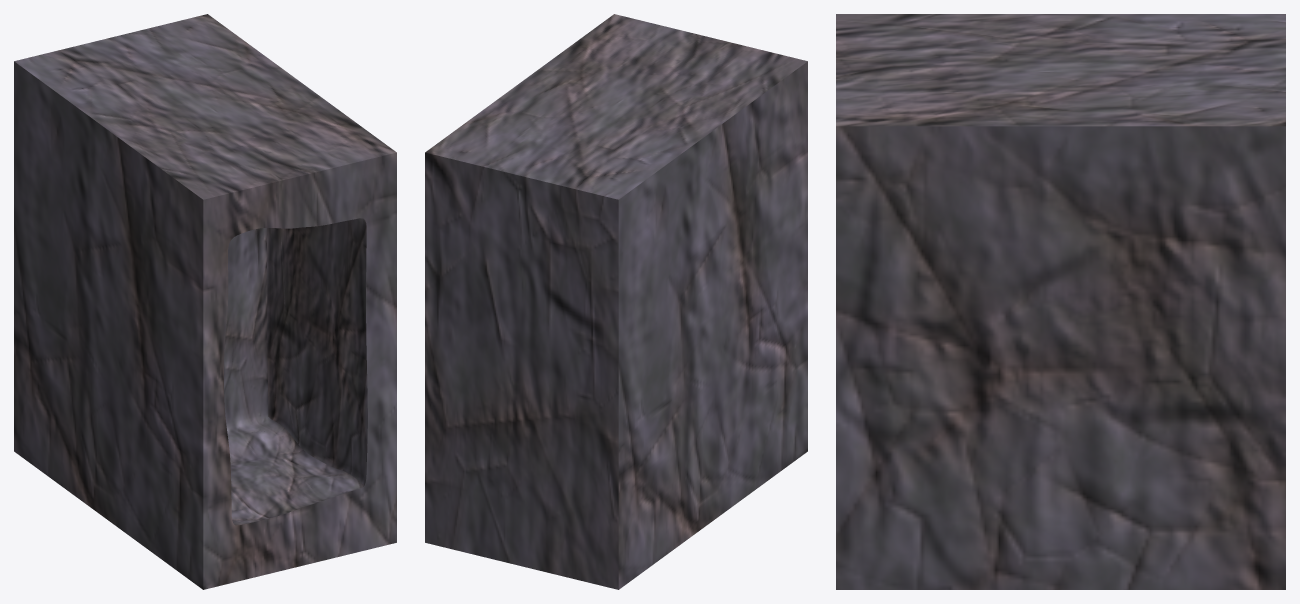
The model's file is CaveBox.fbx.
The picture shows the model from 3 angles, left to right: view 1: azimuth 30°, elevation 25°; view 2: azimuth 150°, elevation 25°; view 3: azimuth 270°, elevation 25°; orthographic projection. The views are drawn at different scales.
Visible parts, largest first — view 1: caveBox; view 2: caveBox; view 3: caveBox.
Part boxes in pixels (x1,y1,x2,y2): caveBox: (14, 14, 396, 589); caveBox: (425, 14, 807, 589); caveBox: (836, 14, 1285, 589).
Size of the model in its own units: 3385 by 6517 by 5730.
1 material, 1 textured.
